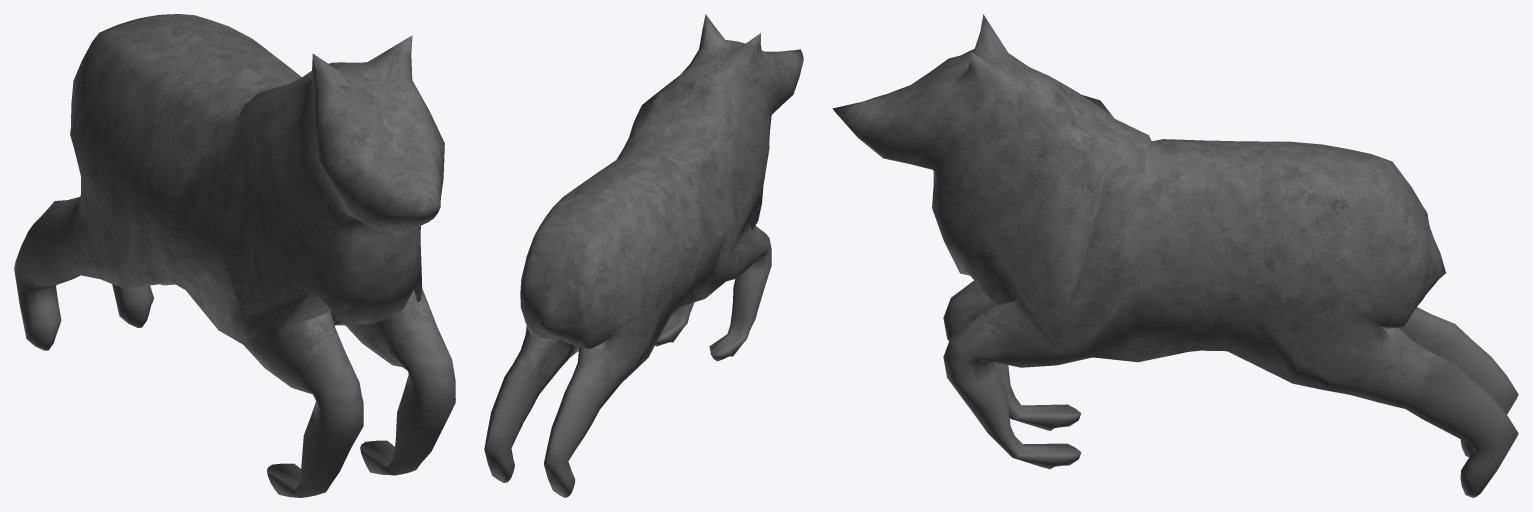
The model's file is piesblend_000012.obj.
The picture shows the model from 3 angles, left to right: view 1: azimuth 30°, elevation 25°; view 2: azimuth 150°, elevation 25°; view 3: azimuth 270°, elevation 25°; orthographic projection. The views are drawn at different scales.
Visible parts, largest first — view 1: Cube; view 2: Cube; view 3: Cube.
Boxes of the visible parts, bbox=[...] form: Cube: bbox=[14, 14, 455, 497]; Cube: bbox=[484, 14, 803, 497]; Cube: bbox=[832, 14, 1518, 497].
Size of the model in its own units: 2.55 by 6.57 by 9.31.
1 material, 1 textured.
